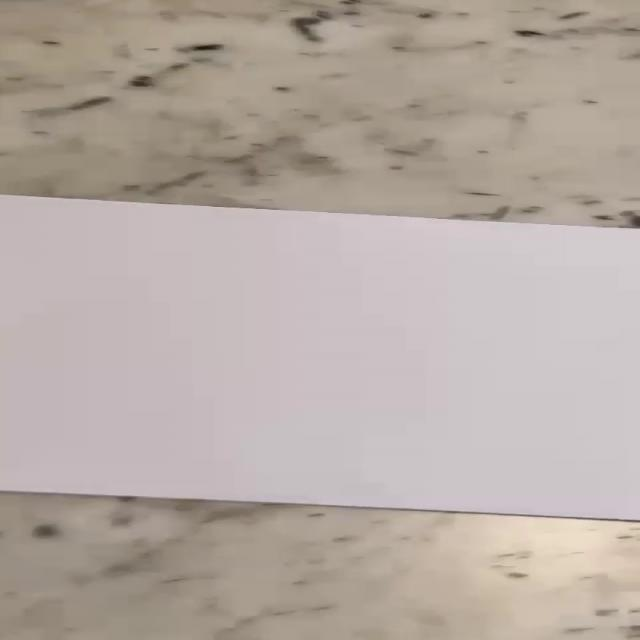road: (3, 196, 640, 520)
